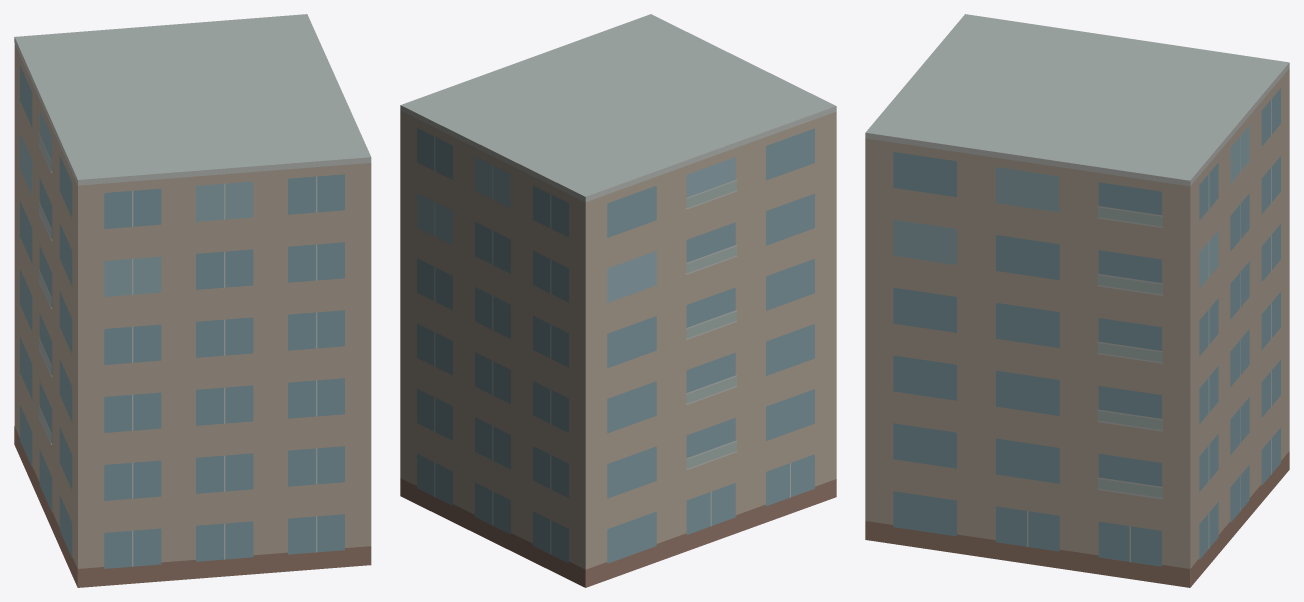
File: survey-upis-32989689.glb
3 views of the same model, side by side, from view 1: azimuth 30°, elevation 25°; view 2: azimuth 150°, elevation 25°; view 3: azimuth 270°, elevation 25° (orthographic). The views are drawn at different scales.
Parts seen in each view (by area): view 1: survey-upis-32989689.tmp; view 2: survey-upis-32989689.tmp; view 3: survey-upis-32989689.tmp.
Boxes of the visible parts, x1=… form: survey-upis-32989689.tmp: x1=14, y1=14, x2=371, y2=587; survey-upis-32989689.tmp: x1=400, y1=14, x2=836, y2=587; survey-upis-32989689.tmp: x1=865, y1=14, x2=1289, y2=587.
Size of the model in its own units: 15.42 by 17.55 by 16.58.
